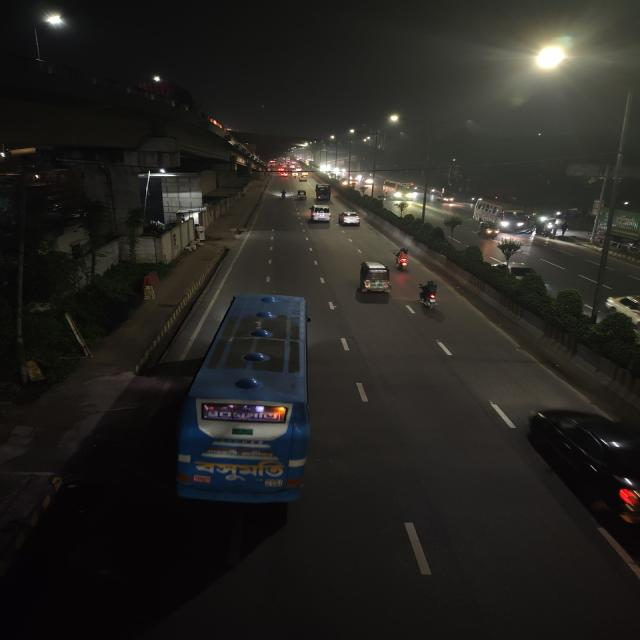bus: (175, 290, 325, 512), (472, 200, 532, 233), (382, 181, 417, 201)
car: (514, 399, 640, 640), (603, 292, 640, 338), (309, 203, 332, 224), (338, 210, 363, 228), (298, 175, 307, 181)
cng: (354, 259, 394, 299), (475, 222, 500, 240), (294, 190, 308, 202)
motorcycle: (413, 278, 448, 316), (392, 246, 416, 274), (278, 188, 288, 200)
pickup_van: (313, 183, 332, 203), (434, 192, 456, 204)
